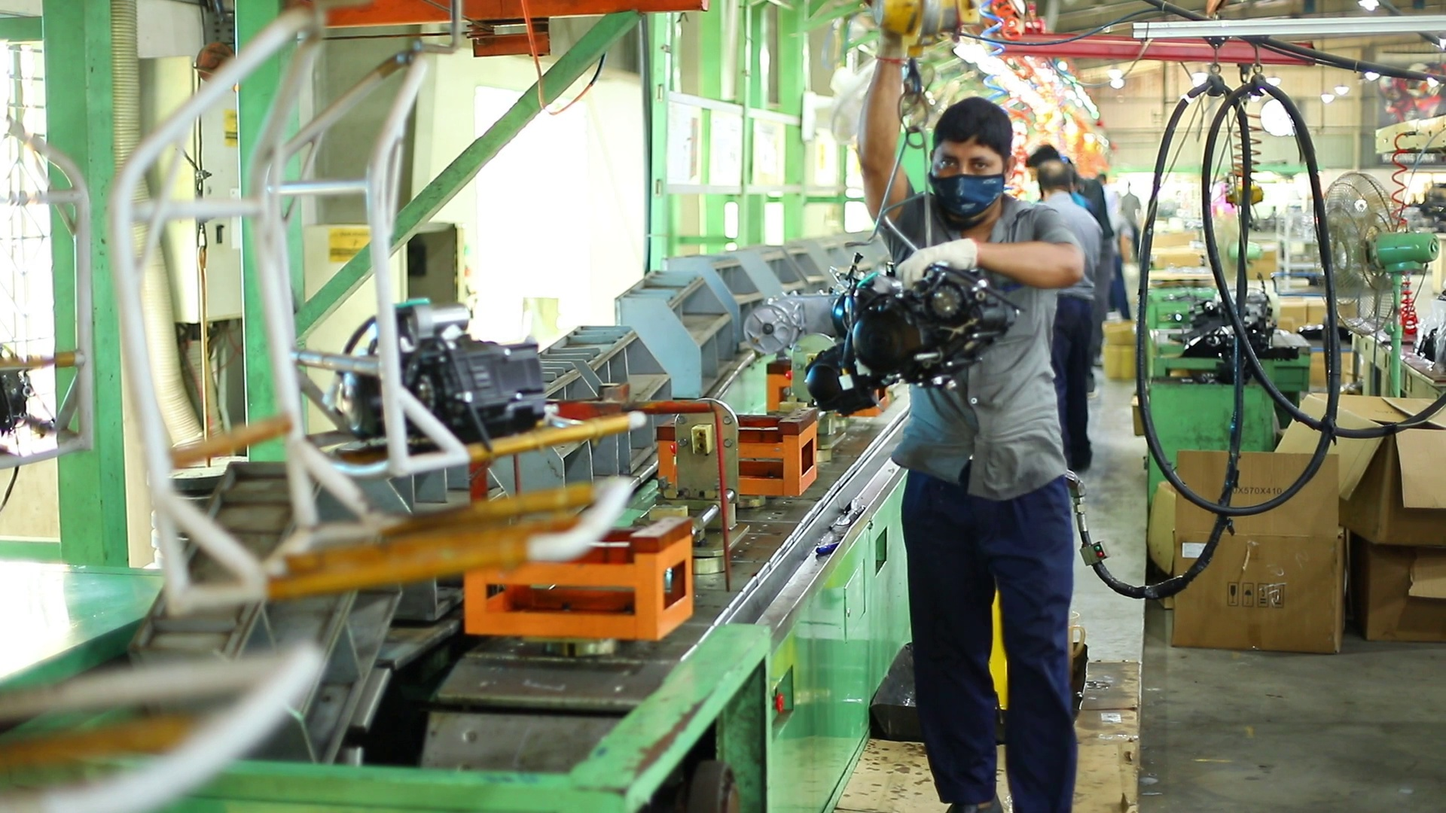mask: (928, 174, 1006, 221)
person: (857, 35, 1088, 813), (1024, 143, 1137, 394), (1036, 159, 1105, 476)
